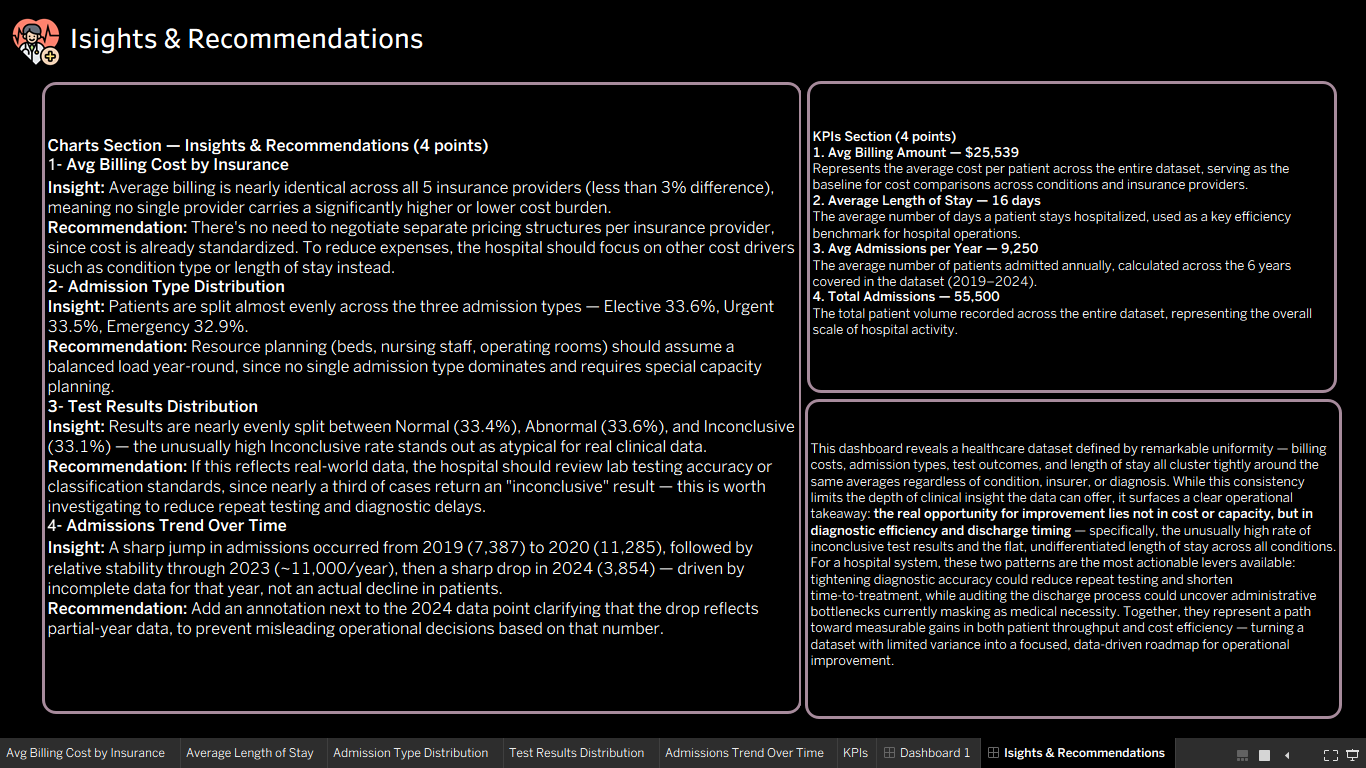

This screenshot's page, from the dashboard's own definition file:
{"tool":"tableau","page":{"name":"Isights & Recommendations ","canvas":[1000,1000],"units":"permille","ordinal":1},"visuals":[{"type":"text","box":[49,10.1,410.7,82.8]},{"type":"image","param":"Image/healthcare.png","box":[7,22,63.1,69.3]},{"type":"text","box":[591.1,109.8,387.9,422.3]},{"type":"text","box":[30.7,111.5,556,856.4]},{"type":"text","box":[589.3,540.5,393.2,434.1]}]}

Visuals, with their boxes on the dashboard's canvas, which has no fixed pixel size, in thousandths of its width and height (x1, y1, x2, y2). These are canvas units, not pixel positions in the 1366x768 screenshot, which may show the page scaled, cropped or inside an application window:
text: box=[49, 10, 460, 93]
image: box=[7, 22, 70, 91]
text: box=[591, 110, 979, 532]
text: box=[31, 112, 587, 968]
text: box=[589, 540, 982, 975]
